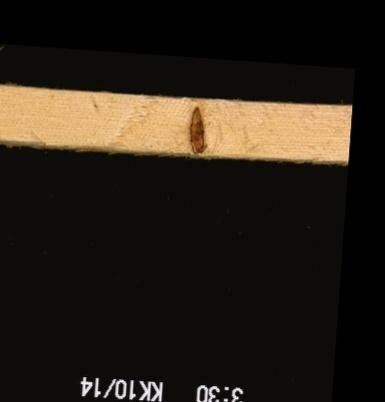edge_knot: (187, 104, 209, 155)
